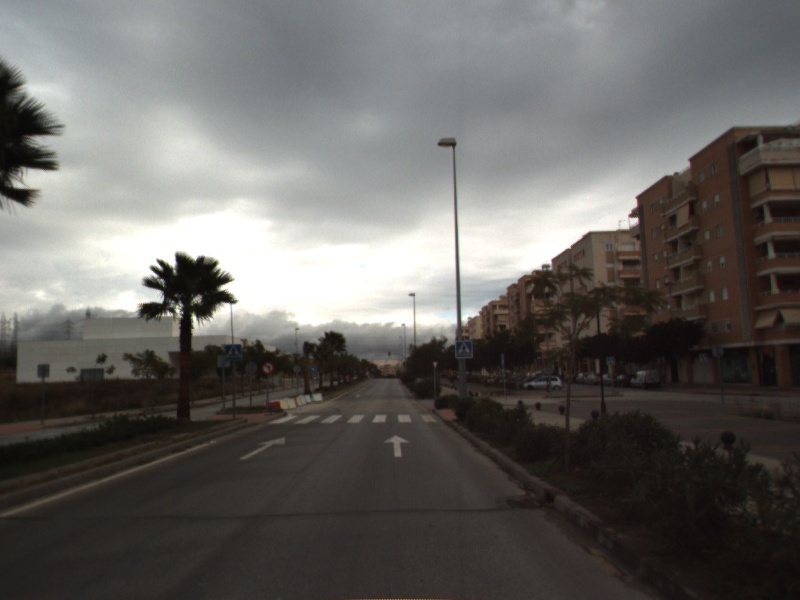STRAIGHT: (238, 435, 288, 461), (382, 433, 412, 459)
